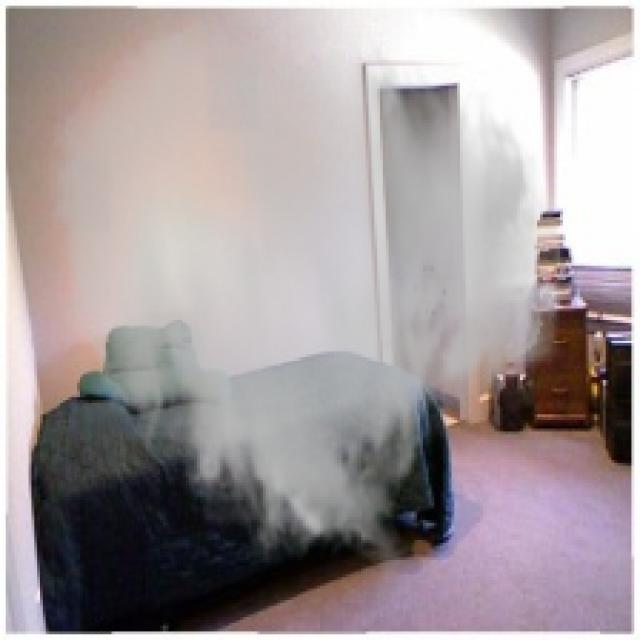smoke: (43, 17, 568, 577)
